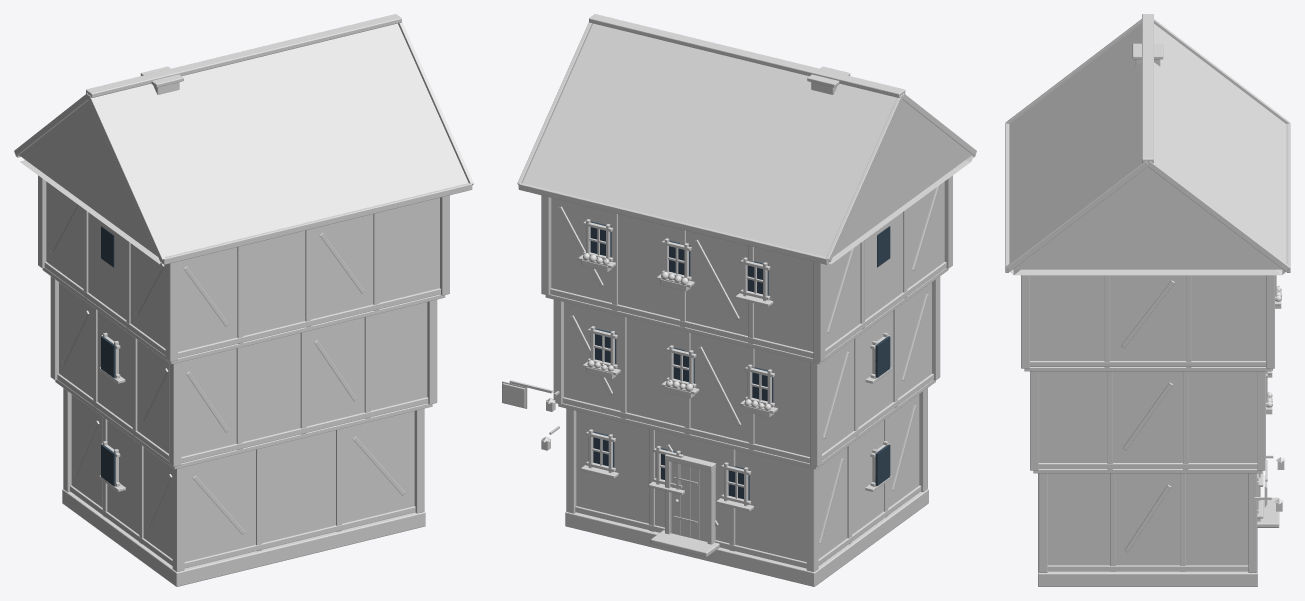
Rendered from house_c.fbx.
3 renders of one model, left to right at view 1: azimuth 30°, elevation 25°; view 2: azimuth 150°, elevation 25°; view 3: azimuth 270°, elevation 25°, orthographic. The views are drawn at different scales.
Parts seen in each view (by area): view 1: house_c; view 2: house_c; view 3: house_c.
Boxes of the visible parts, <box> form: house_c: <box>14,14,473,586</box>; house_c: <box>502,14,976,586</box>; house_c: <box>1005,14,1290,586</box>.
Bounding box in the file's own units: 934 × 1212 × 708.
